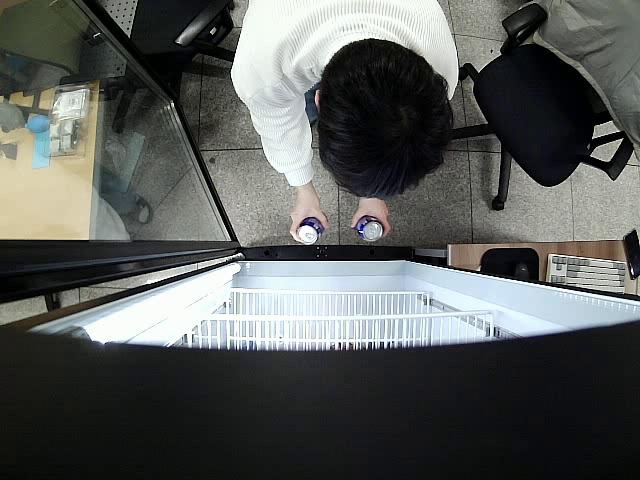00_hand: (290, 194, 329, 245), (351, 200, 391, 239)
14_welchsGrape: (296, 218, 322, 245), (355, 217, 383, 242)
